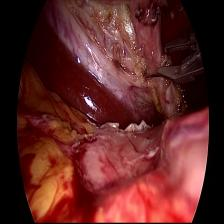Clipper: (156, 32, 207, 87)
